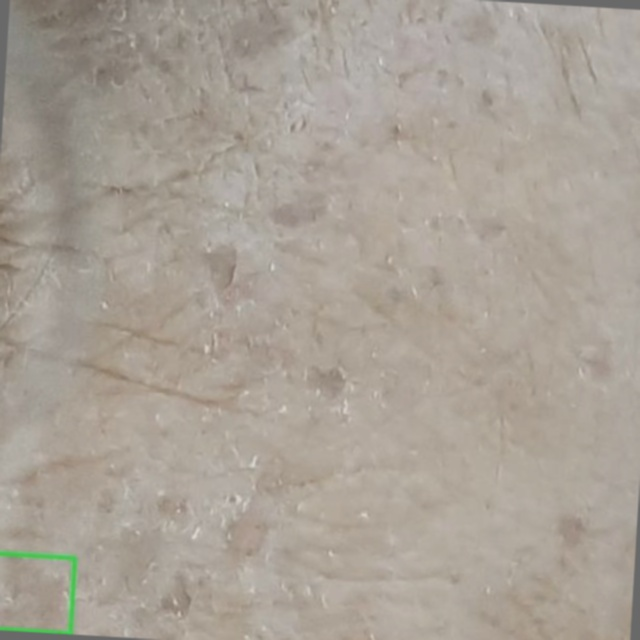Seborrheic Dermatitis: (0, 553, 75, 633)
